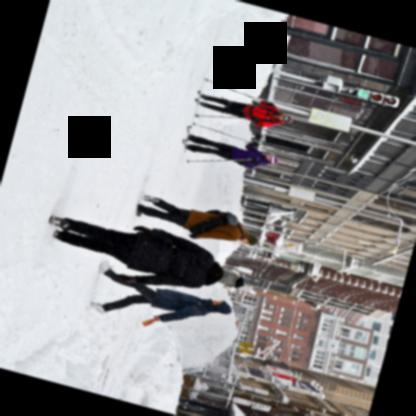backpack: (185, 212, 241, 238), (228, 151, 268, 168)
